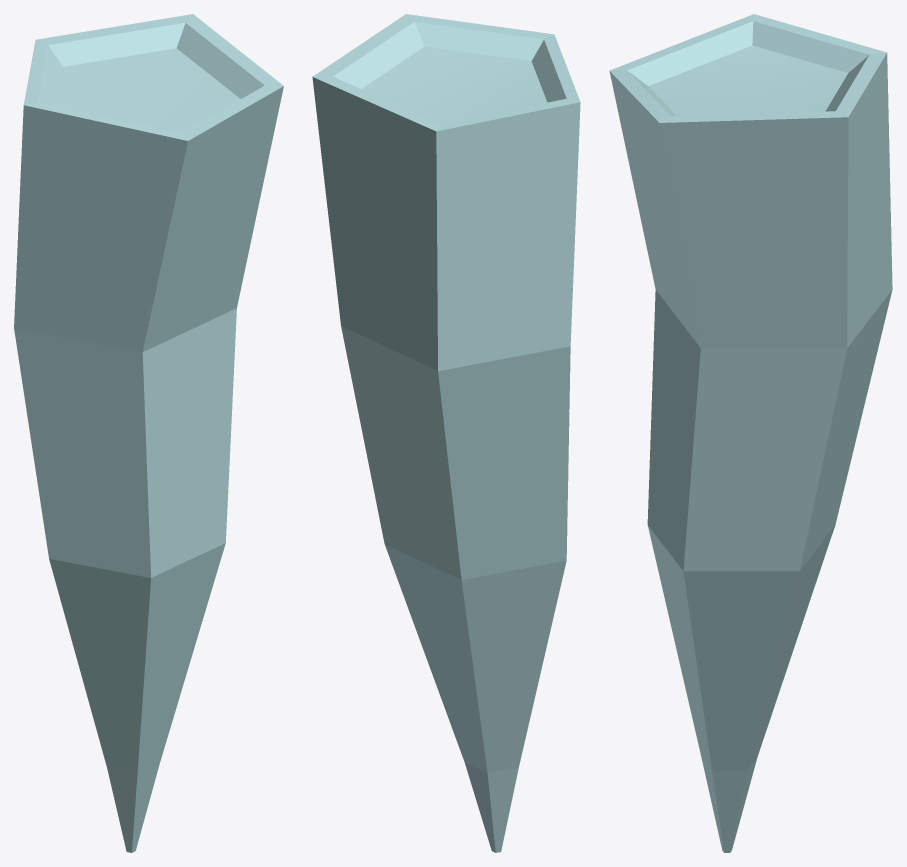
The model's file is stalagtite01.fbx.
3 renders of one model, left to right at view 1: azimuth 30°, elevation 25°; view 2: azimuth 150°, elevation 25°; view 3: azimuth 270°, elevation 25°, orthographic. The views are drawn at different scales.
Visible parts, largest first — view 1: Stalactite_1; view 2: Stalactite_1; view 3: Stalactite_1.
Boxes of the visible parts, bbox=[...] form: Stalactite_1: bbox=[14, 14, 283, 852]; Stalactite_1: bbox=[312, 14, 580, 852]; Stalactite_1: bbox=[609, 14, 892, 852].
Bounding box in the file's own units: 92.2 × 314 × 101.
